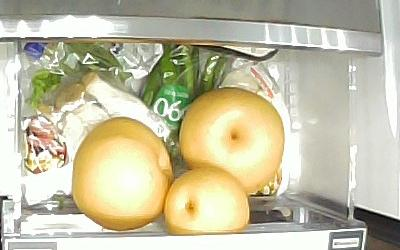pear: (72, 116, 173, 232), (180, 88, 285, 190), (164, 169, 251, 234)
